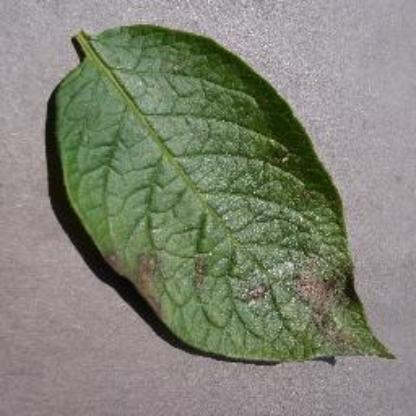Late-Blight: (43, 16, 401, 368)
